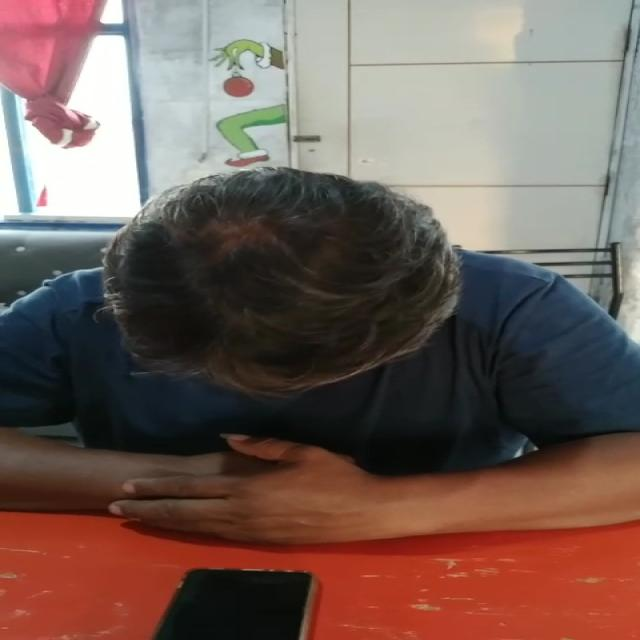9_cabeza_baja: (100, 166, 455, 398)
